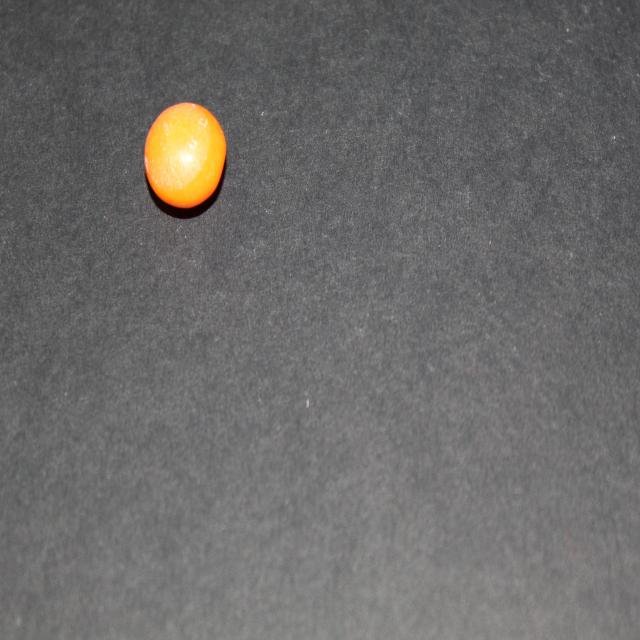smartie: (144, 101, 226, 207)
